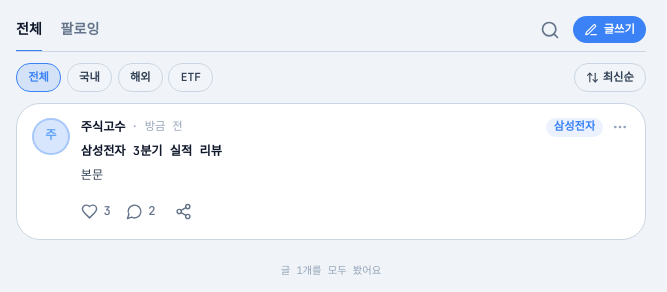
it: 1 — 위쪽 두 줄 › 정렬은 칩 하나로 바꾼다
Expected: the text "삼성전자 3분기 실적 리뷰" is shown, x1=81 y1=143 x2=222 y2=159
Click the button with aria-label "정렬 바꾸기 — 지금 최신순": (610, 78) x1=574 y1=63 x2=646 y2=92
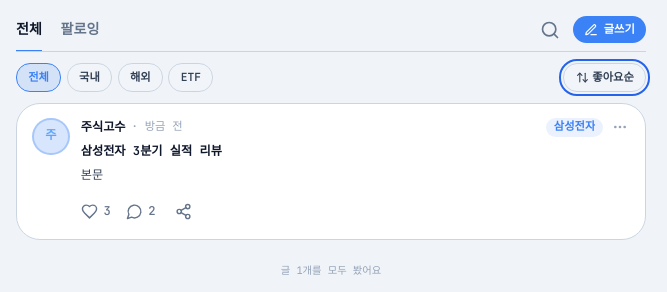
Expected: the button with aria-label "지금 좋아요순" is shown, x1=563 y1=63 x2=646 y2=92
